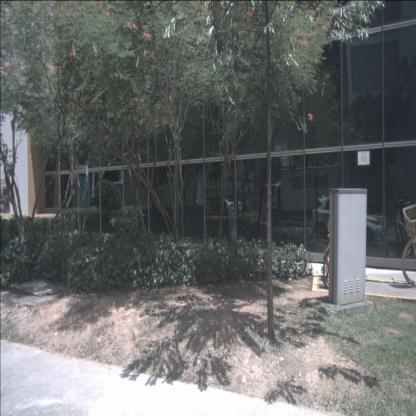vehicle-bicycle: (321, 220, 362, 290), (401, 204, 416, 289)
